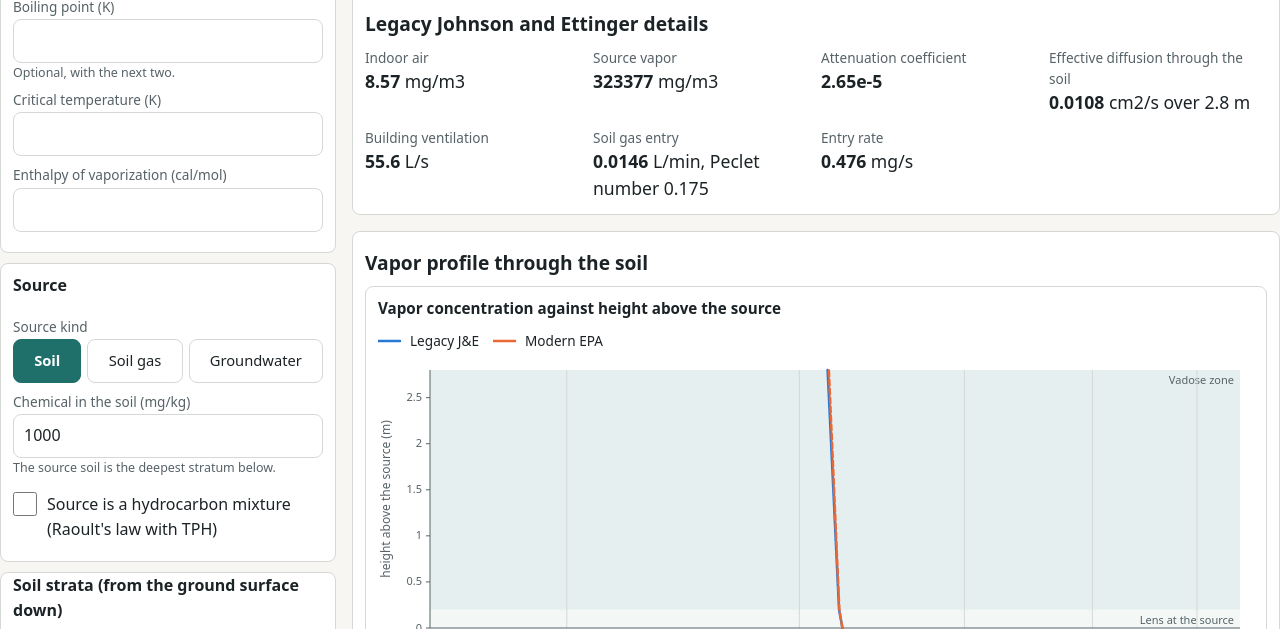
Scenario: outdoor air › says the factor needs a soil source
(page scrolled)
Click the radio button labelled "Soil gas" at {"x": 135, "y": 361}, box [88,339,183,383]
(page scrolled)
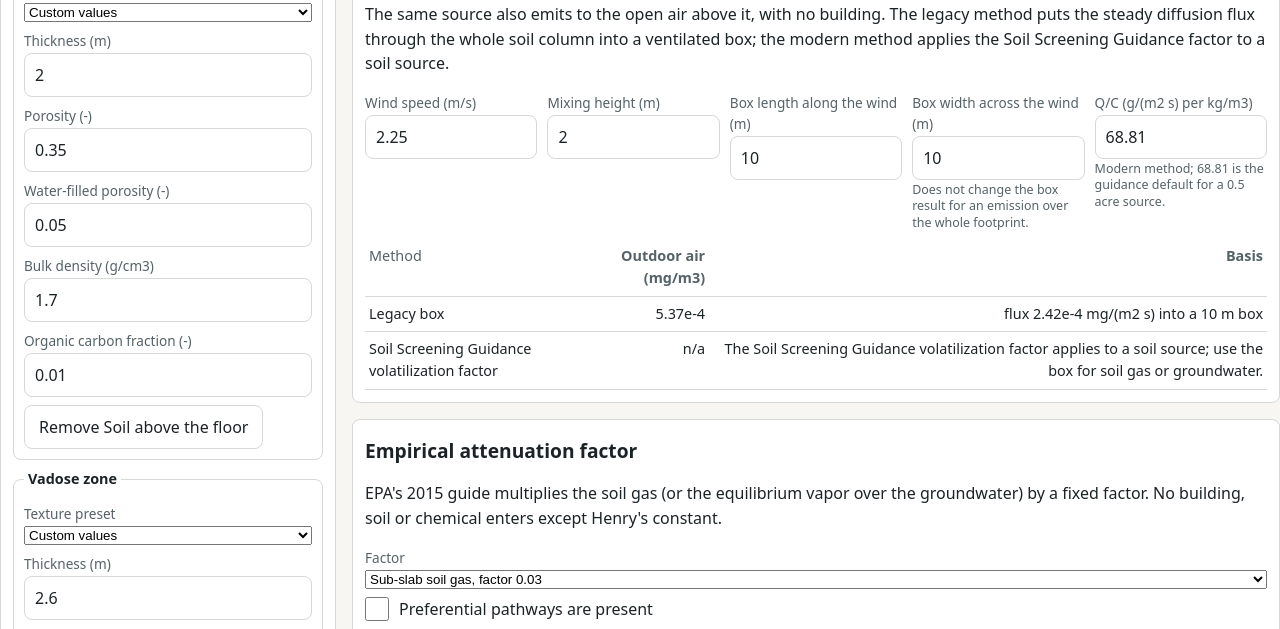
Check: the text "applies to a soil source" is shown, box [724,339,1263,380]
